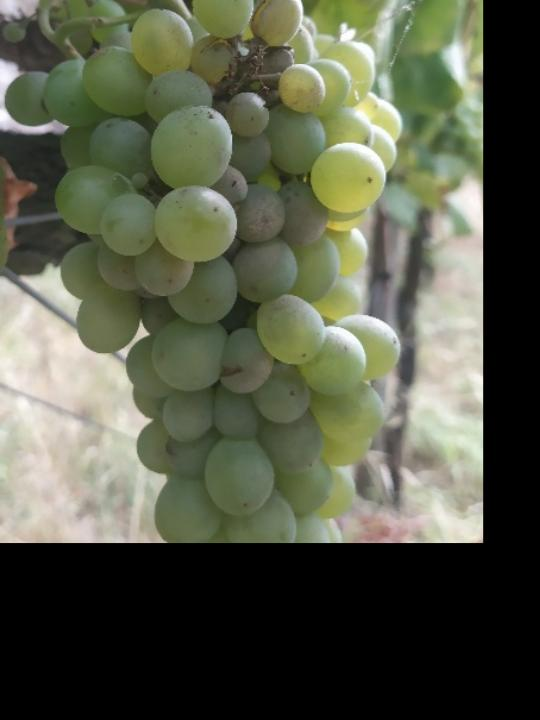grape: (1, 0, 412, 608)
